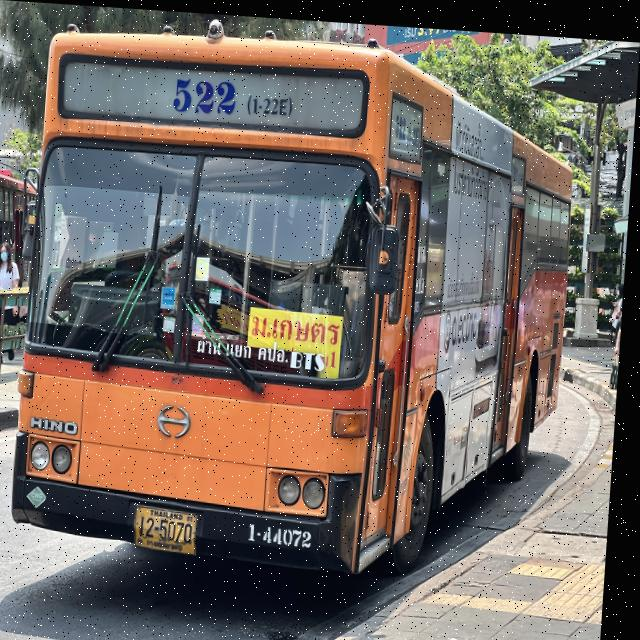BMTA-bus: (2, 2, 593, 600)
Bus Line Number: (150, 62, 303, 121)
Bus Side Number: (252, 515, 325, 549)
Destination Sign: (248, 301, 347, 373)
